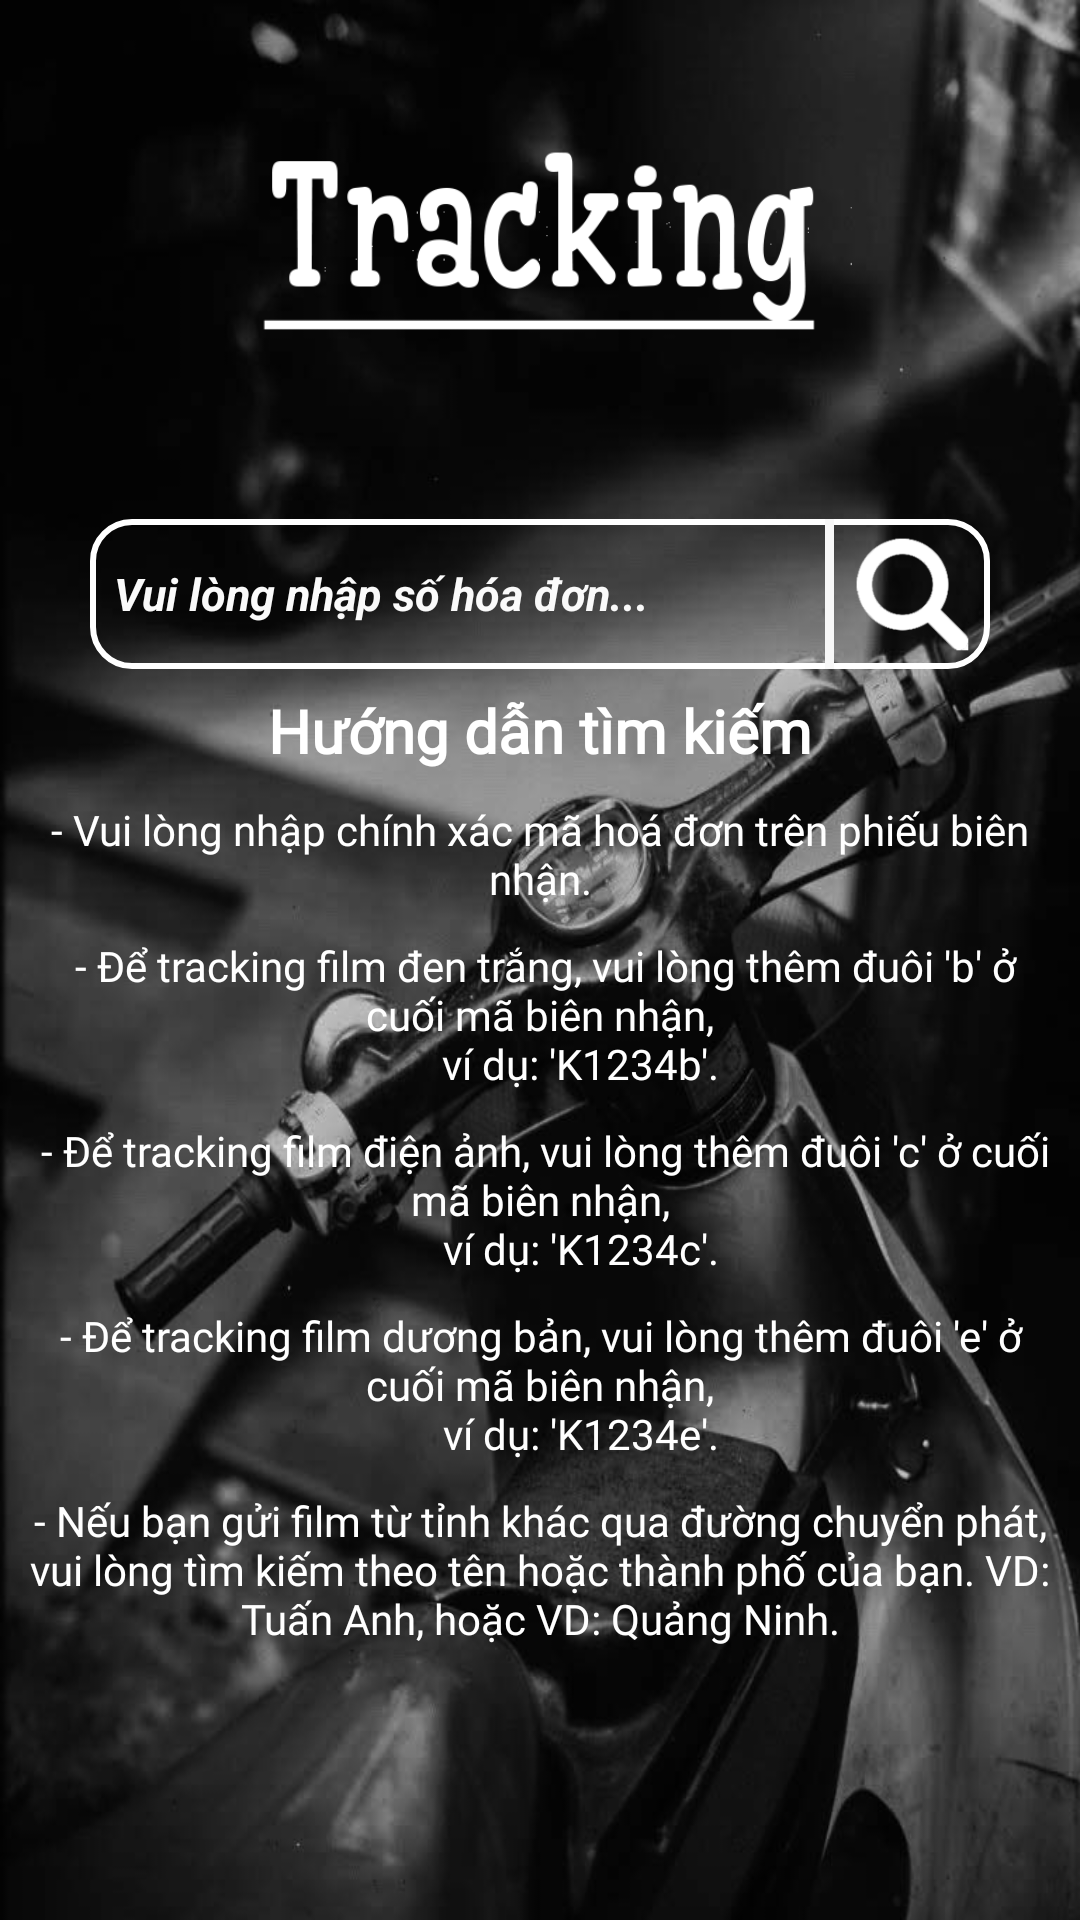

Named icons in this screenshot (1080x1920) and their centers, (x,y):
search: (912,594)
